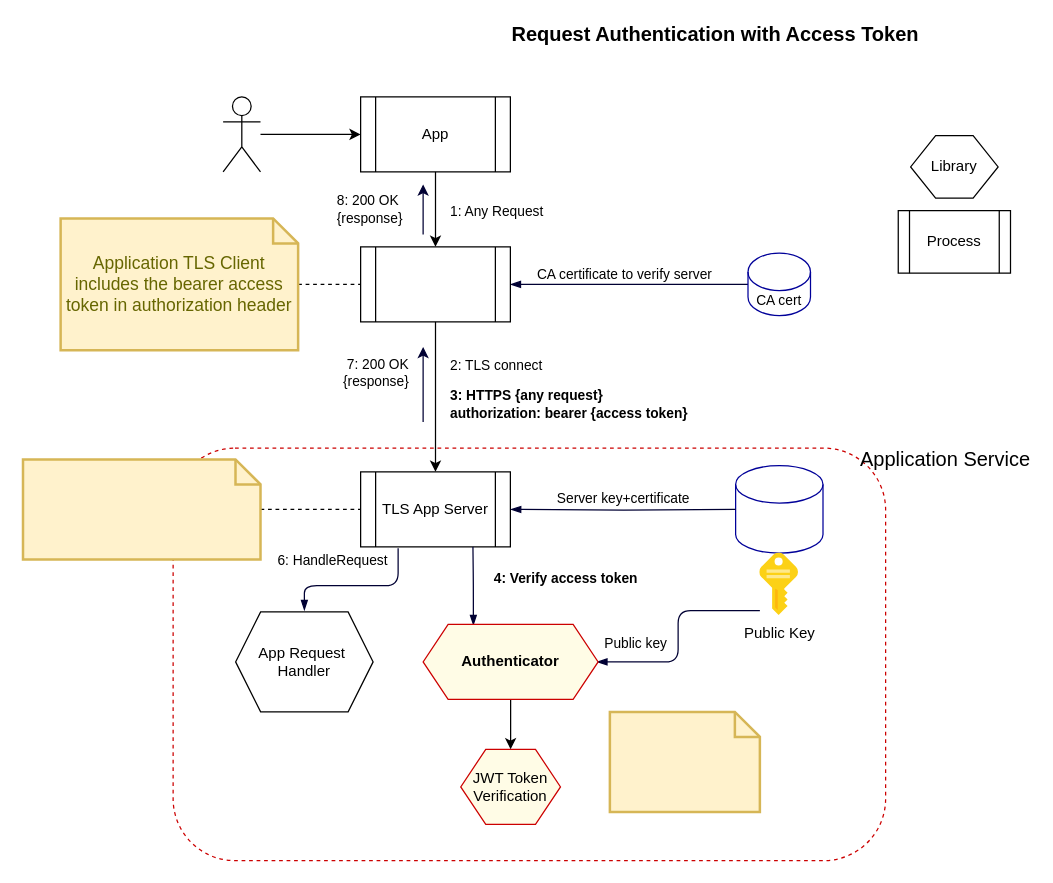
This 1053x883 diagram has some shape labels left out. Here are the shapes that lost their labels. From the top down, the centre of each, then its label:
At point 241,134: "User".
At point 434,284: "TLS Client".
At point 141,509: "TLS App Server verifies access token before passing request to the handler".
At point 778,508: "Server key+cert".
At point 684,761: "Token verification using public key".
